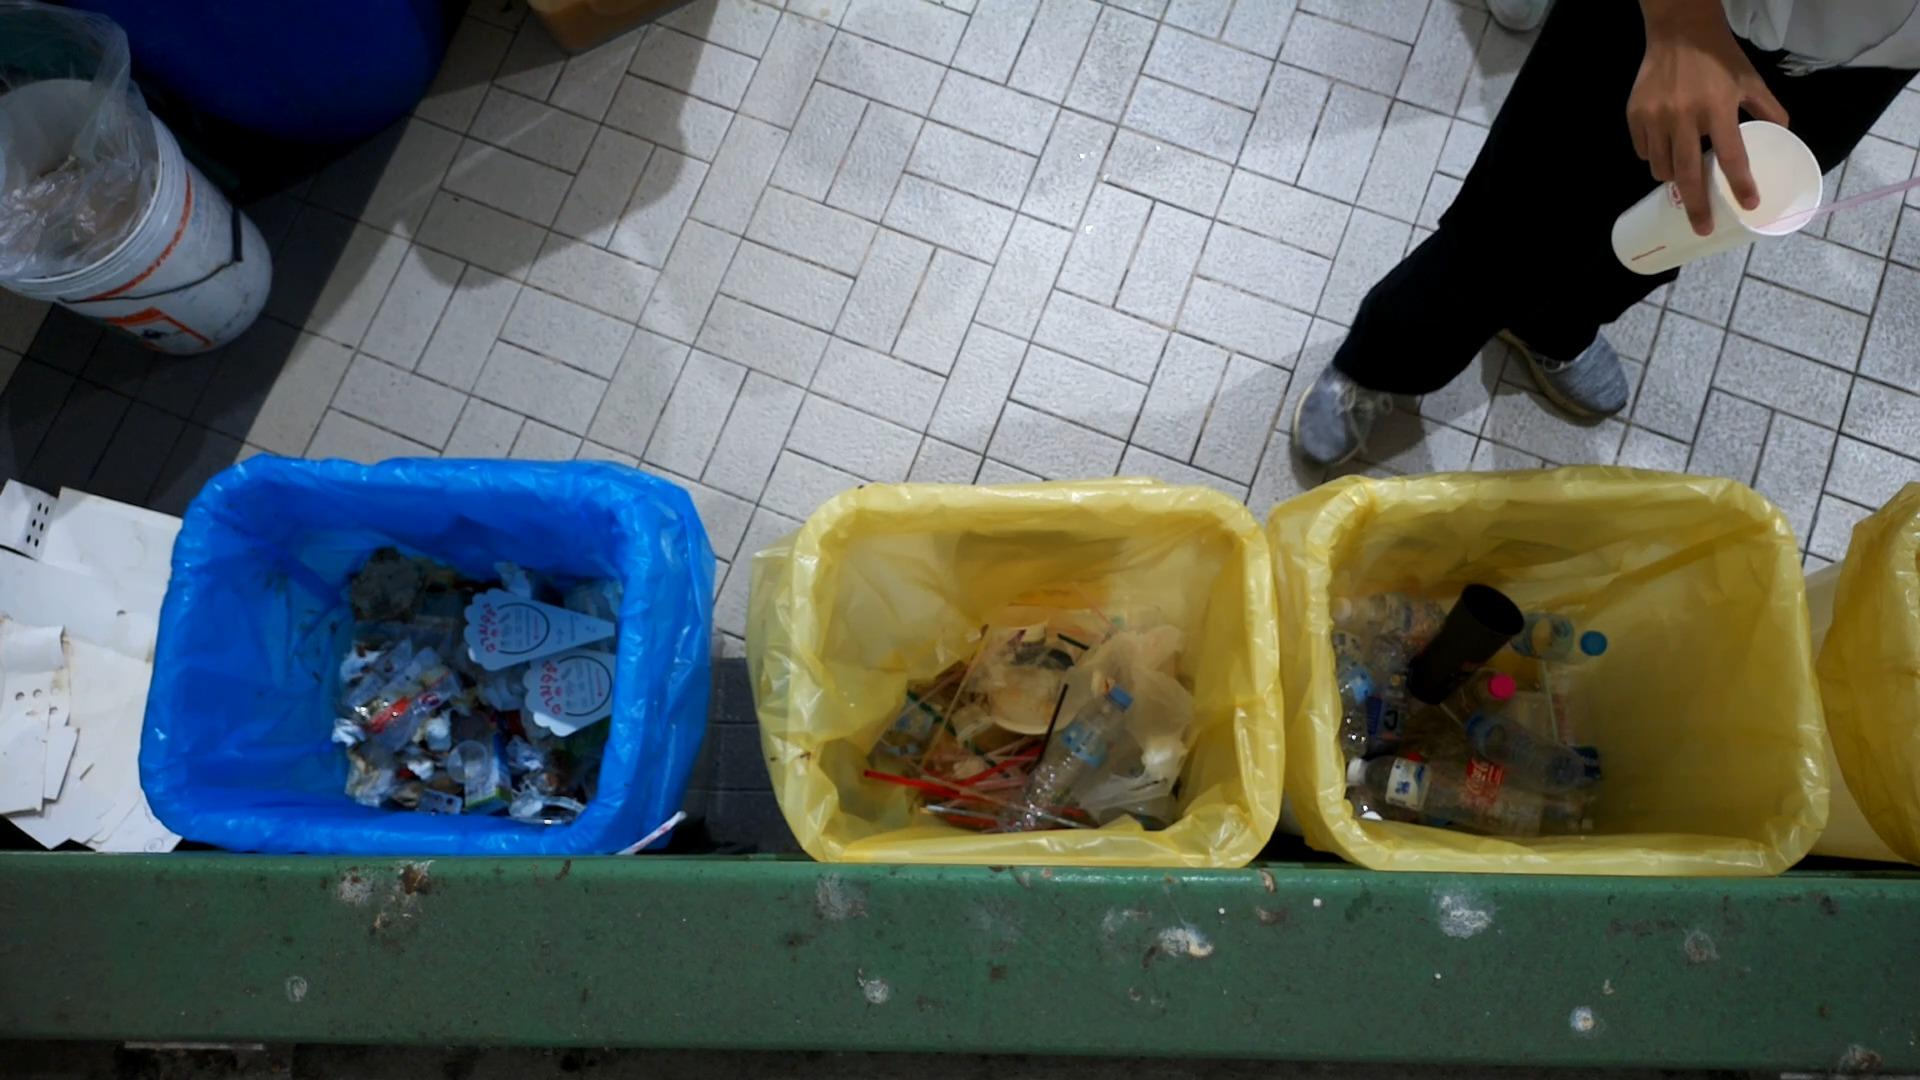food container: (454, 587, 616, 680), (518, 646, 622, 744), (982, 601, 1054, 657), (444, 736, 495, 786)
milk carton: (462, 724, 520, 819)
plastic bag: (1085, 618, 1204, 822)
plastic bottle: (1350, 745, 1555, 851), (1001, 676, 1137, 816), (1472, 713, 1600, 806), (1505, 604, 1611, 676), (1335, 587, 1448, 641)
plastic cup: (1400, 585, 1532, 707)
snack packaging: (339, 637, 450, 736)
straw: (858, 766, 1102, 832), (1770, 165, 1920, 232), (903, 690, 1013, 781), (1025, 679, 1073, 781)
tissue paper: (1145, 736, 1192, 794)
zero waste cup: (1619, 120, 1833, 282)
